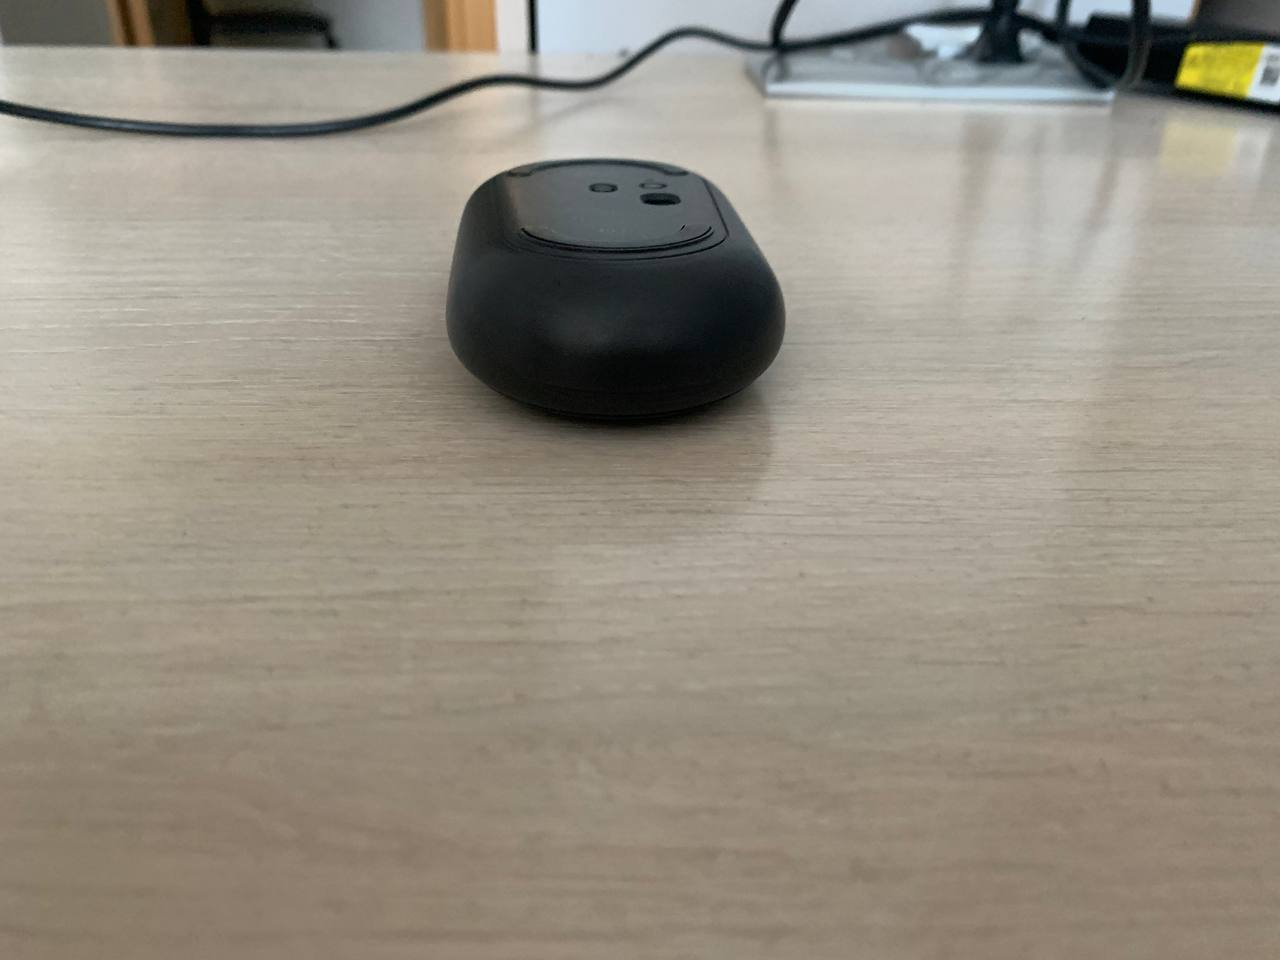mouse: (447, 159, 785, 419)
